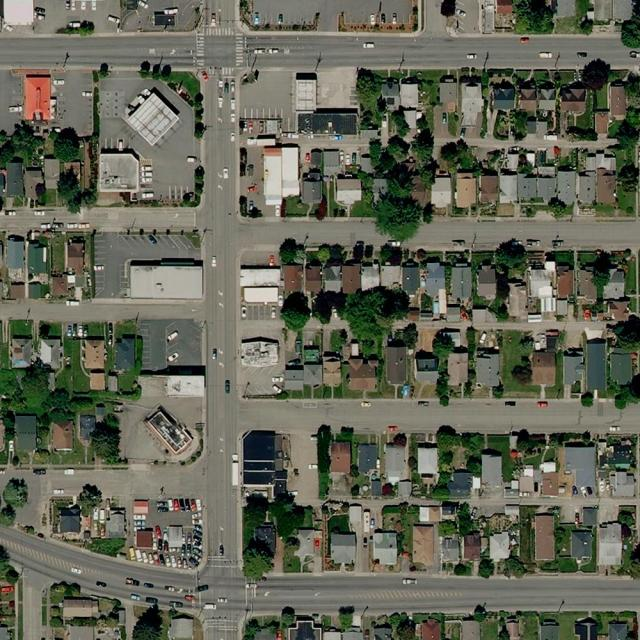building: (281, 257, 447, 301), (455, 166, 616, 208), (119, 82, 184, 147), (142, 402, 196, 458), (130, 260, 203, 298), (242, 431, 285, 494), (528, 268, 576, 317), (263, 145, 300, 206), (408, 293, 471, 324), (0, 235, 28, 299), (99, 149, 139, 192), (297, 107, 358, 134), (458, 75, 485, 128), (49, 270, 93, 302), (563, 445, 595, 488), (310, 149, 359, 176), (519, 80, 558, 113), (24, 75, 51, 121), (605, 439, 639, 474), (585, 338, 606, 391), (241, 338, 279, 367), (380, 80, 420, 107), (476, 347, 502, 387), (534, 512, 555, 561), (598, 522, 621, 564), (62, 596, 100, 621), (295, 72, 318, 112), (349, 359, 376, 392), (412, 524, 434, 564), (15, 413, 38, 451), (438, 320, 468, 349), (335, 176, 363, 207), (240, 266, 281, 287), (166, 375, 205, 397), (610, 348, 633, 385), (532, 351, 556, 386), (481, 449, 503, 487), (560, 81, 586, 113), (330, 532, 356, 564), (594, 0, 633, 21), (385, 346, 406, 385), (372, 531, 396, 565), (562, 348, 584, 385), (447, 351, 470, 386), (385, 444, 405, 483), (607, 79, 626, 120), (410, 175, 434, 207), (450, 265, 472, 299), (104, 507, 127, 539), (356, 442, 379, 474), (115, 335, 136, 370), (447, 470, 473, 498), (23, 167, 45, 200), (586, 149, 617, 172), (609, 471, 635, 498), (431, 175, 452, 208), (602, 269, 625, 299), (570, 529, 593, 559), (330, 441, 351, 473), (66, 241, 85, 276), (295, 528, 315, 561), (84, 339, 105, 370), (6, 160, 24, 196), (51, 422, 73, 451), (40, 339, 61, 369), (29, 241, 48, 274), (418, 444, 438, 475), (490, 531, 510, 561), (492, 84, 515, 110), (244, 286, 279, 303), (11, 339, 32, 367), (44, 156, 61, 190), (574, 616, 598, 640), (168, 617, 194, 639), (284, 364, 304, 392), (462, 532, 481, 561), (480, 0, 496, 34), (479, 265, 496, 297), (60, 505, 80, 532), (301, 179, 322, 204), (517, 465, 535, 493), (580, 271, 596, 302), (440, 78, 458, 105), (349, 354, 379, 370), (607, 300, 631, 320), (79, 414, 96, 442), (304, 364, 323, 387), (441, 538, 459, 562), (167, 524, 184, 549), (372, 177, 389, 202), (418, 505, 441, 523), (541, 472, 558, 496), (539, 619, 559, 639), (322, 351, 341, 372), (460, 620, 480, 639), (555, 0, 576, 18), (595, 110, 610, 135), (136, 527, 153, 549), (397, 478, 414, 499), (403, 107, 418, 130), (609, 621, 628, 639), (90, 372, 106, 391), (322, 371, 341, 387), (496, 0, 514, 16), (360, 154, 374, 174), (506, 152, 519, 171), (134, 500, 149, 516), (29, 281, 43, 298), (437, 289, 446, 314), (95, 402, 106, 422), (360, 129, 379, 140), (371, 479, 381, 497), (108, 375, 118, 392), (536, 149, 546, 166), (0, 625, 11, 639), (350, 341, 359, 356), (526, 152, 535, 166), (119, 609, 126, 624)
greenland: (330, 266, 417, 353), (565, 54, 615, 129), (367, 128, 438, 174), (136, 55, 205, 101), (278, 237, 376, 267), (244, 494, 312, 537), (431, 424, 487, 476), (50, 162, 101, 216), (497, 329, 537, 395), (374, 192, 424, 243), (238, 604, 300, 640), (381, 502, 422, 556), (305, 282, 351, 329), (433, 500, 481, 545), (435, 136, 481, 181), (275, 287, 318, 334), (354, 67, 387, 128), (432, 331, 455, 405), (490, 237, 531, 278), (551, 0, 593, 37), (241, 538, 275, 582), (609, 312, 640, 357), (588, 250, 614, 300), (46, 579, 83, 606), (486, 431, 514, 466), (386, 162, 412, 198), (393, 320, 421, 350), (189, 165, 207, 208), (0, 545, 19, 584), (420, 74, 440, 106), (378, 241, 403, 264), (284, 195, 310, 217), (326, 514, 350, 534), (339, 605, 357, 630), (480, 617, 499, 639), (194, 92, 202, 137)
metalled_road: (247, 570, 640, 616), (239, 397, 640, 434), (0, 462, 205, 509), (408, 215, 640, 251), (0, 32, 198, 70), (0, 206, 200, 235), (240, 216, 386, 251), (99, 71, 143, 149), (152, 128, 196, 201), (33, 0, 120, 34), (51, 70, 95, 136), (121, 0, 201, 31), (0, 69, 23, 134)
